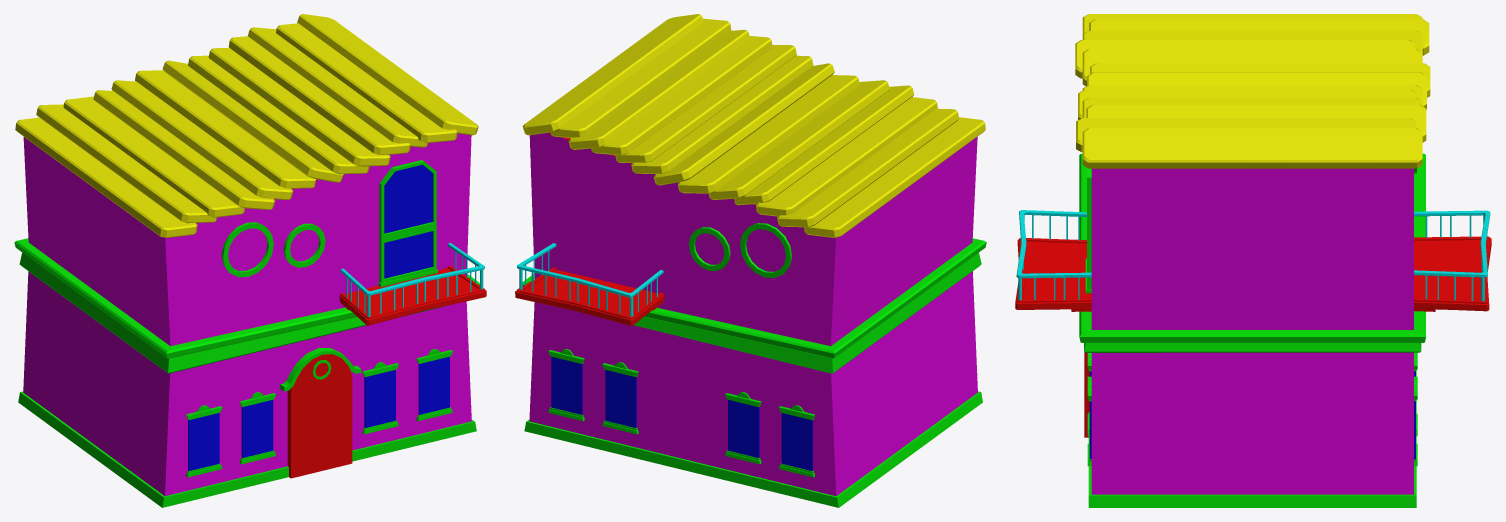
File: SM_S_Building_A.fbx
3 views of the same model, side by side, from view 1: azimuth 30°, elevation 25°; view 2: azimuth 150°, elevation 25°; view 3: azimuth 270°, elevation 25° (orthographic). The views are drawn at different scales.
Visible parts, largest first — view 1: SM_S_Building_A; view 2: SM_S_Building_A; view 3: SM_S_Building_A.
Part boxes in pixels (x1,y1,x2,y2): SM_S_Building_A: (14, 14, 486, 507); SM_S_Building_A: (515, 14, 986, 507); SM_S_Building_A: (1015, 14, 1491, 507).
Size of what is drawn, in the model's own units: 519 by 496 by 591.
